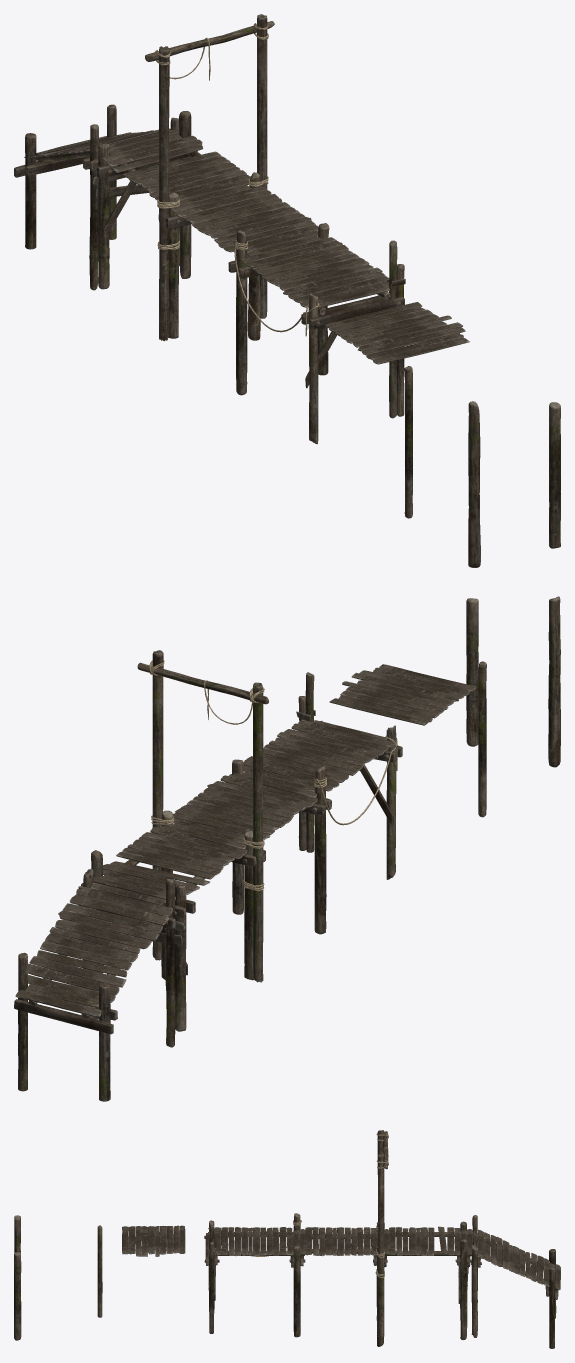
The model's file is modular_wooden_pier.glb.
The picture shows the model from 3 angles, top to bottom: view 1: azimuth 30°, elevation 25°; view 2: azimuth 150°, elevation 25°; view 3: azimuth 270°, elevation 25°; orthographic projection. The views are drawn at different scales.
Visible parts, largest first — view 1: modular_wooden_pier_planks, modular_wooden_pier_section_01, modular_wooden_pier_poles; view 2: modular_wooden_pier_planks, modular_wooden_pier_section_01, modular_wooden_pier_poles; view 3: modular_wooden_pier_planks, modular_wooden_pier_section_01, modular_wooden_pier_poles.
Boxes of the visible parts, x1,y1,x2,y2 form: modular_wooden_pier_planks: (14, 23, 469, 388); modular_wooden_pier_section_01: (25, 14, 404, 444); modular_wooden_pier_poles: (404, 366, 560, 567); modular_wooden_pier_planks: (14, 660, 476, 1034); modular_wooden_pier_section_01: (18, 650, 396, 1101); modular_wooden_pier_poles: (466, 596, 560, 817); modular_wooden_pier_planks: (122, 1132, 560, 1303); modular_wooden_pier_section_01: (204, 1130, 558, 1348); modular_wooden_pier_poles: (14, 1215, 102, 1340).
Size of the model in its own units: 3.1 by 7.52 by 19.03.
2 materials, 2 textured.
